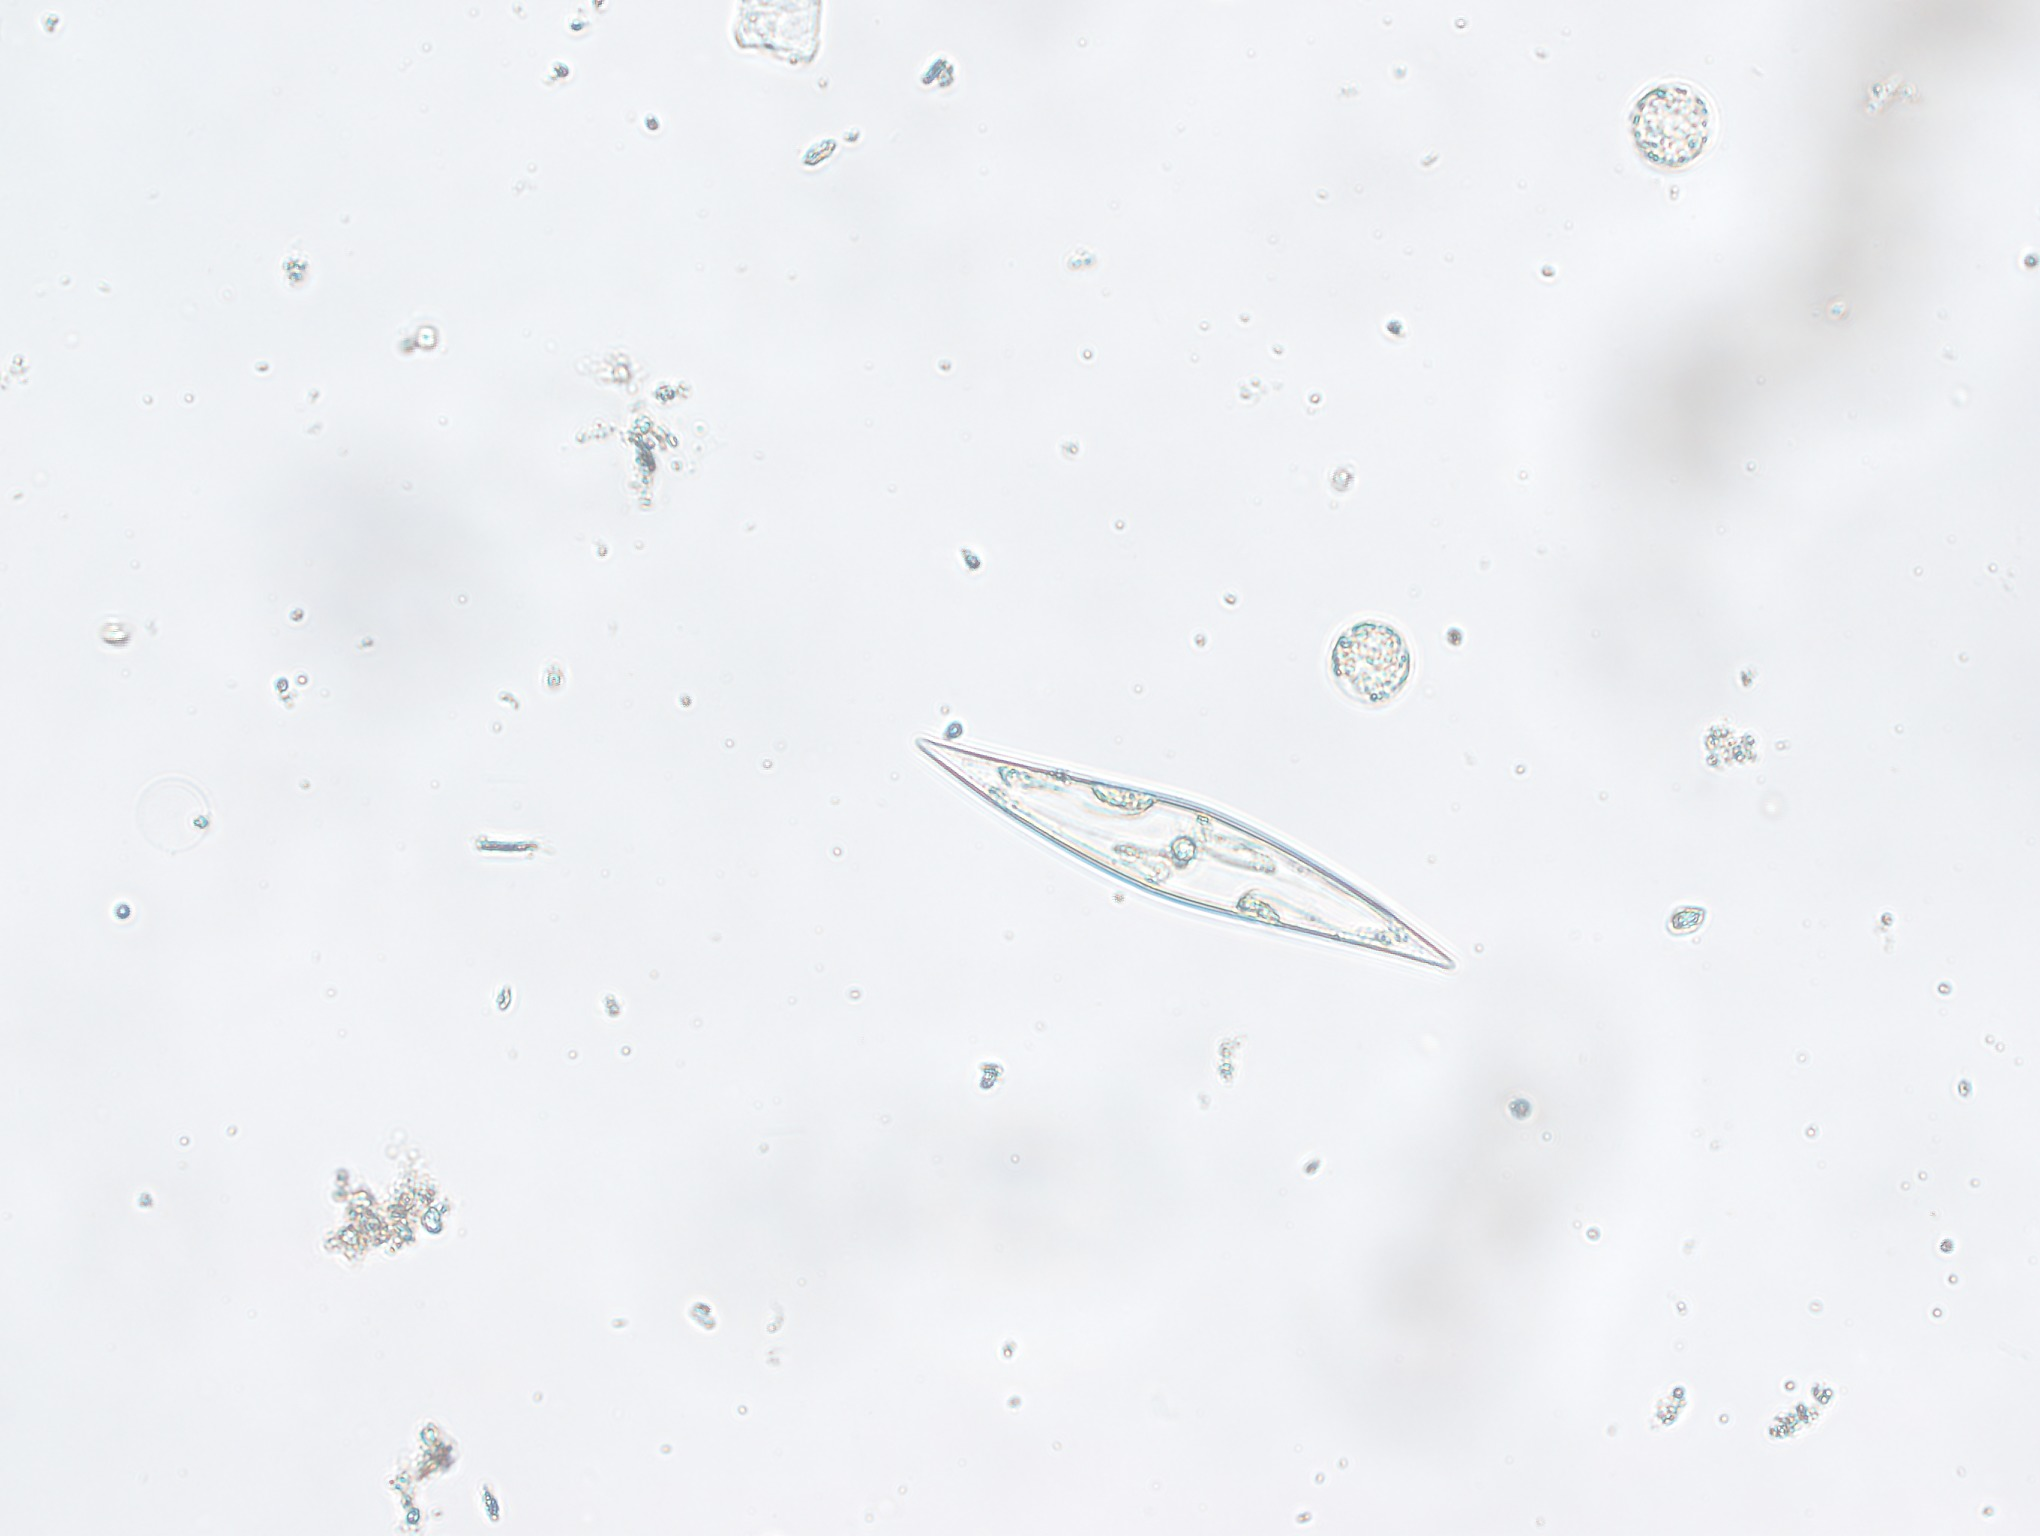pleurosigma pelagicum: (901, 708, 1463, 992)
